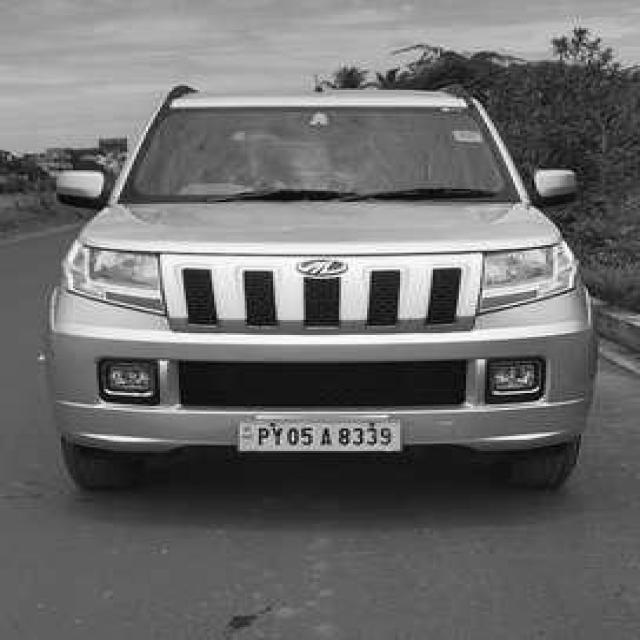car: (42, 82, 602, 496)
license-plate: (238, 419, 400, 453)
